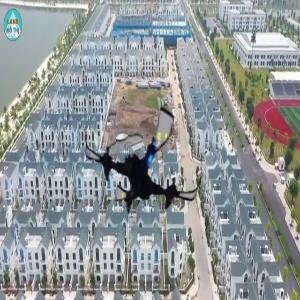drone: (79, 95, 209, 225)
